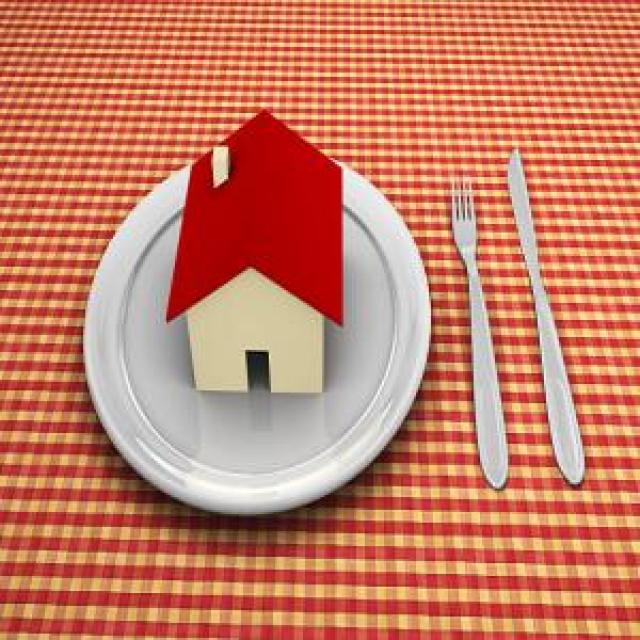knife: (503, 145, 588, 488)
